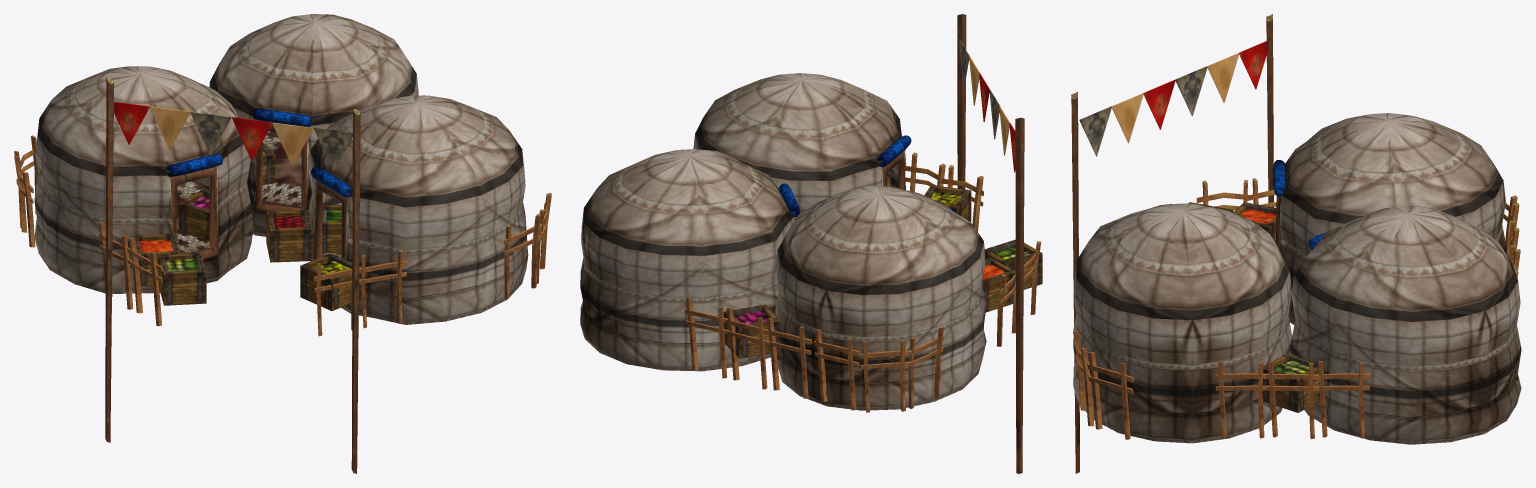
File: farmstead.dae
The picture shows the model from 3 angles, left to right: view 1: azimuth 30°, elevation 25°; view 2: azimuth 150°, elevation 25°; view 3: azimuth 270°, elevation 25°; orthographic projection. The views are drawn at different scales.
Visible parts, largest first — view 1: farmstead; view 2: farmstead; view 3: farmstead.
Part boxes in pixels (<box>): farmstead: <box>14,14,551,473</box>; farmstead: <box>580,14,1042,473</box>; farmstead: <box>1071,14,1521,473</box>.
Bounding box in the file's own units: 12.48 × 12.44 × 11.61.
